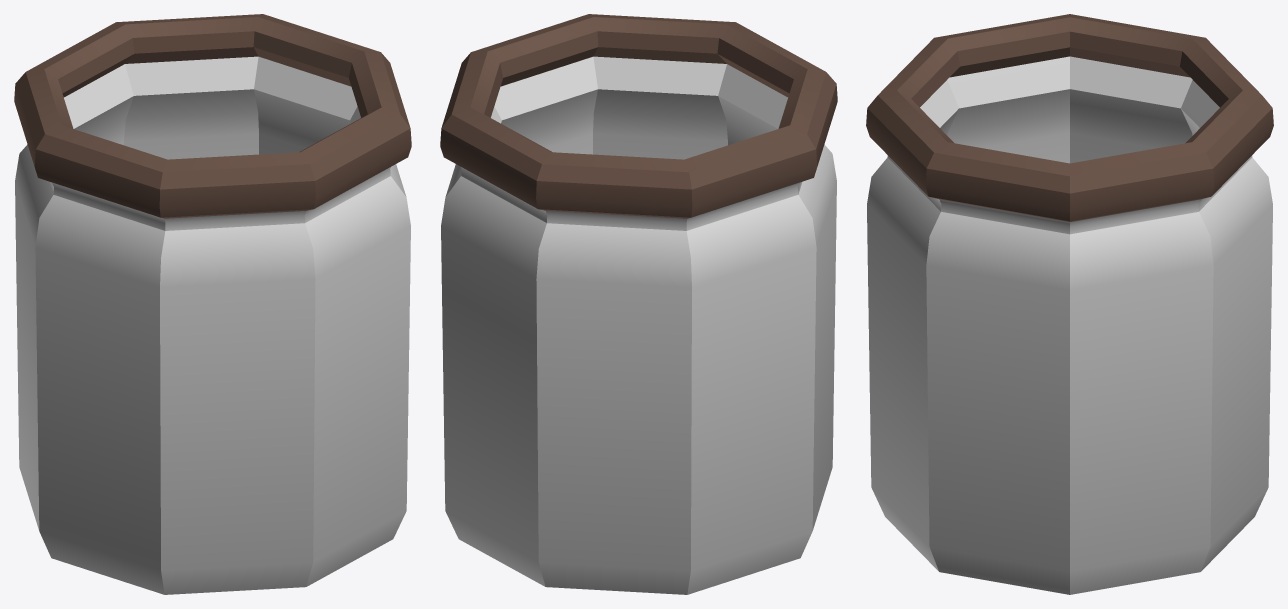
File: Jar.fbx
The picture shows the model from 3 angles, left to right: view 1: azimuth 30°, elevation 25°; view 2: azimuth 150°, elevation 25°; view 3: azimuth 270°, elevation 25°; orthographic projection.
Visible parts, largest first — view 1: JarR; view 2: JarR; view 3: JarR.
Boxes of the visible parts, x1,y1,x2,y2 form: JarR: (14, 14, 411, 594); JarR: (440, 14, 837, 594); JarR: (866, 14, 1273, 594).
Size of the model in its own units: 90.07 by 104 by 90.07.
